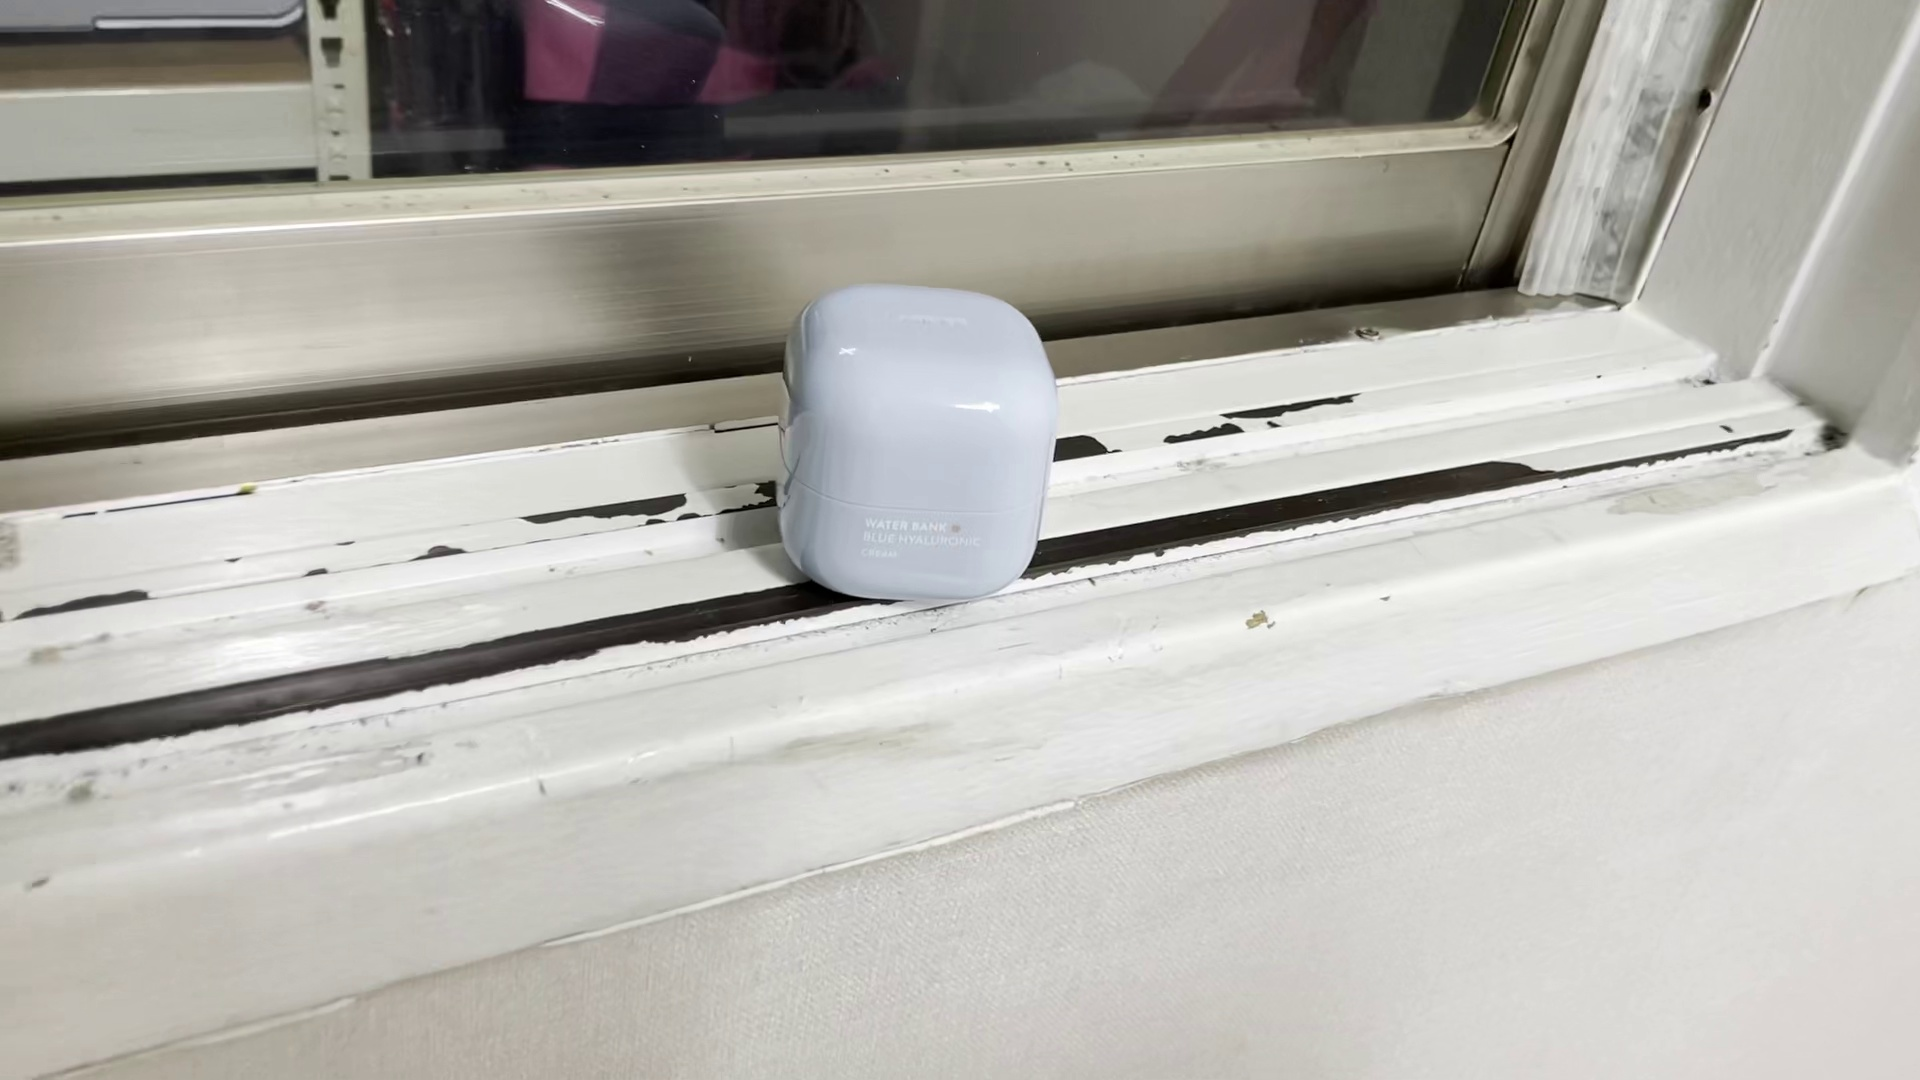cream: (775, 282, 1058, 603)
